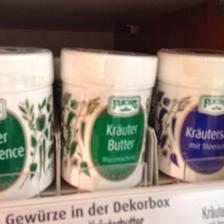Gewuerze: (55, 46, 157, 190), (154, 45, 222, 177), (0, 44, 54, 200)
